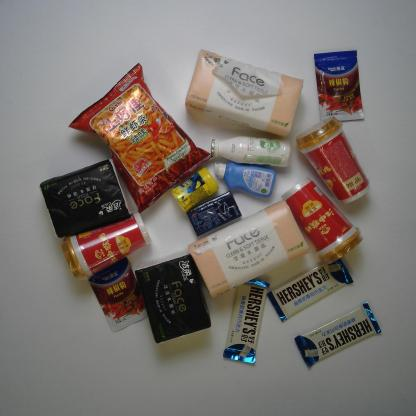Chocolate: (265, 258, 356, 322), (294, 303, 383, 368), (223, 276, 270, 365)
Gum: (185, 189, 240, 237), (171, 162, 222, 212)
Instant Drink: (282, 176, 366, 268), (58, 211, 152, 282), (297, 114, 369, 204)
Milk: (209, 131, 293, 169)
Personal Hygiene: (211, 158, 279, 199)
Puffed Food: (68, 59, 206, 216)
Seasoner: (88, 256, 148, 334), (316, 50, 364, 122)
Tissue: (185, 198, 311, 300), (182, 49, 307, 141), (40, 158, 139, 241), (134, 250, 212, 346)
